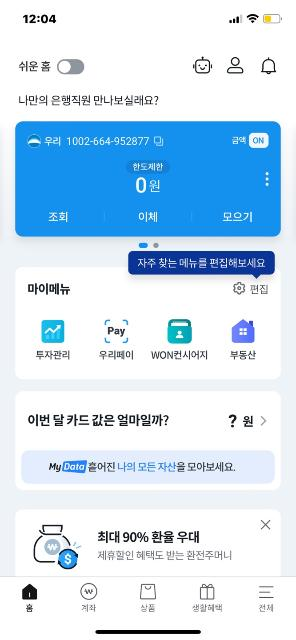Bottom_Navigation: (1, 577, 296, 613)
Card: (16, 121, 280, 236), (15, 266, 281, 379), (15, 392, 281, 490), (15, 508, 280, 576), (21, 450, 275, 484)
Icon: (168, 319, 192, 343), (104, 319, 128, 343), (232, 318, 254, 342), (42, 320, 64, 342), (194, 56, 213, 74), (80, 582, 98, 600), (140, 584, 156, 600), (228, 57, 242, 73), (262, 58, 276, 74), (23, 584, 37, 600), (200, 584, 214, 600), (258, 586, 274, 598), (233, 282, 246, 294), (154, 136, 164, 146), (262, 520, 270, 530), (261, 416, 267, 426), (265, 172, 269, 186)
Image: (34, 523, 82, 569), (27, 134, 41, 148)
PageIndicator: (139, 242, 159, 248)
Switch: (57, 60, 84, 74)
Text: (98, 530, 232, 560), (49, 460, 235, 472), (29, 414, 169, 428), (19, 95, 157, 105), (138, 258, 266, 268), (45, 136, 149, 146), (151, 350, 207, 360), (136, 177, 160, 193), (228, 414, 253, 428), (36, 350, 70, 360), (99, 350, 133, 360), (19, 62, 51, 72), (222, 212, 252, 222), (230, 350, 256, 360), (133, 163, 163, 171), (192, 604, 222, 612), (49, 212, 67, 222), (139, 212, 157, 222), (250, 284, 268, 294), (140, 604, 156, 612), (232, 136, 246, 144), (82, 604, 96, 612), (259, 604, 273, 612), (254, 136, 264, 144), (27, 604, 33, 612)
TextButton: (128, 251, 276, 279), (250, 133, 268, 149)
TextImageButton: (150, 318, 208, 359), (98, 320, 134, 360), (36, 320, 70, 360), (230, 318, 256, 360), (192, 584, 222, 612), (80, 582, 98, 612), (22, 584, 38, 612), (140, 584, 156, 612), (258, 586, 274, 612)
Toolbar: (1, 56, 296, 74)
UpperTaskBar: (1, 0, 296, 36)
